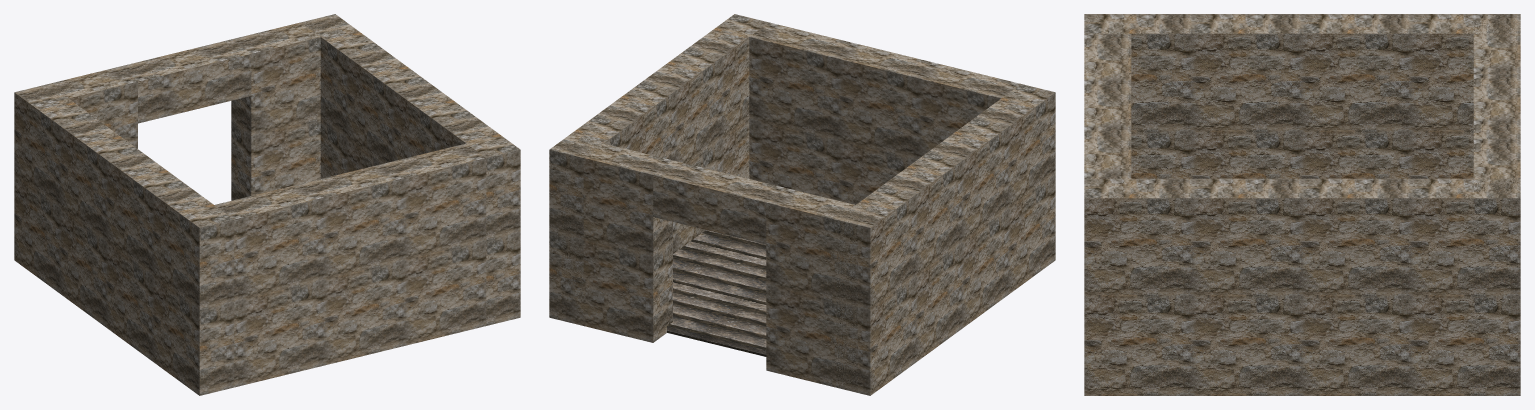
File: turm_quadratisch_sockel_8m.glb
The picture shows the model from 3 angles, left to right: view 1: azimuth 30°, elevation 25°; view 2: azimuth 150°, elevation 25°; view 3: azimuth 270°, elevation 25°; orthographic projection. The views are drawn at different scales.
Parts seen in each view (by area): view 1: part_tuffmauer_moertel; view 2: part_tuffmauer_moertel, part_treppenstein_abgelaufen; view 3: part_tuffmauer_moertel.
Boxes of the visible parts, left/top/right/bottom form: part_tuffmauer_moertel: left=14, top=14, right=520, bottom=395; part_tuffmauer_moertel: left=549, top=14, right=1055, bottom=395; part_treppenstein_abgelaufen: left=667, top=230, right=766, bottom=356; part_tuffmauer_moertel: left=1084, top=14, right=1520, bottom=395.
Bounding box in the file's own units: 8 × 4 × 8.
Materials: 2 (2 with a texture image).
